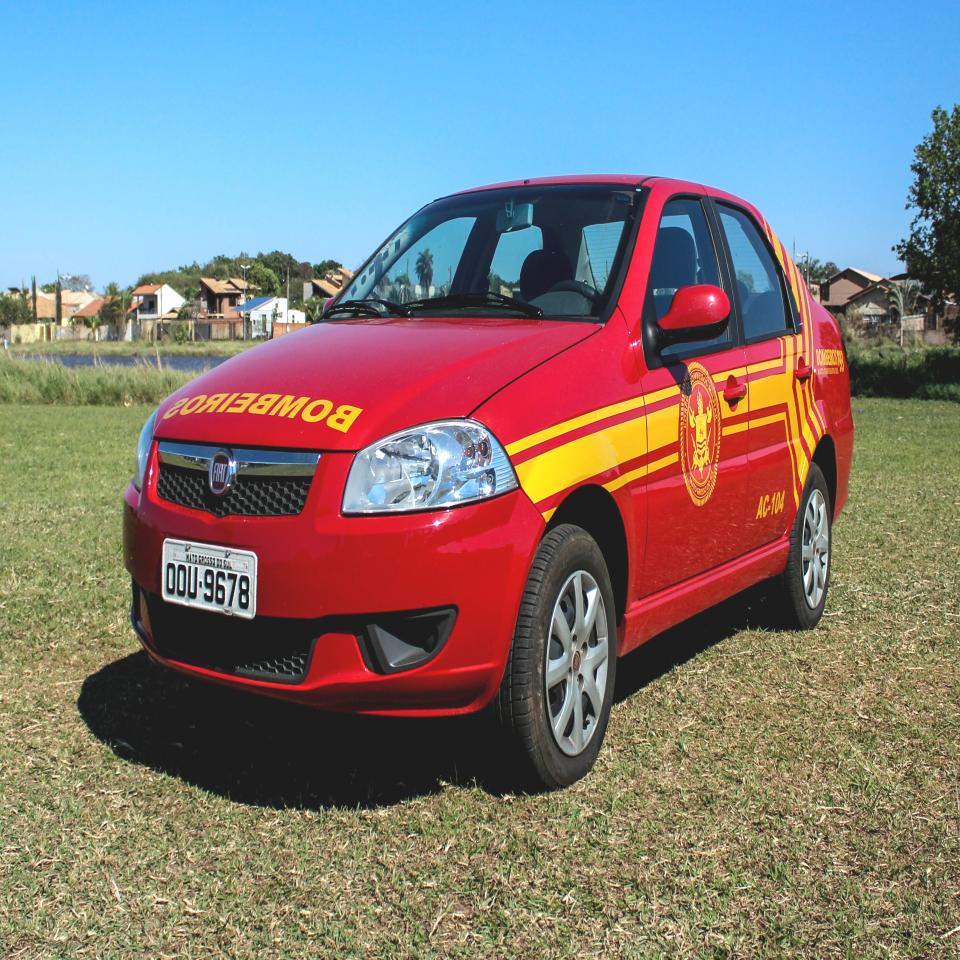bombeiro: (120, 169, 858, 797)
